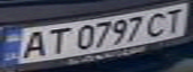0: (72, 21, 96, 51)
7: (90, 19, 115, 48), (124, 14, 148, 43)
9: (109, 16, 133, 46)
A: (12, 28, 51, 61)
C: (142, 9, 175, 38)
T: (39, 25, 72, 56), (157, 6, 190, 34)
